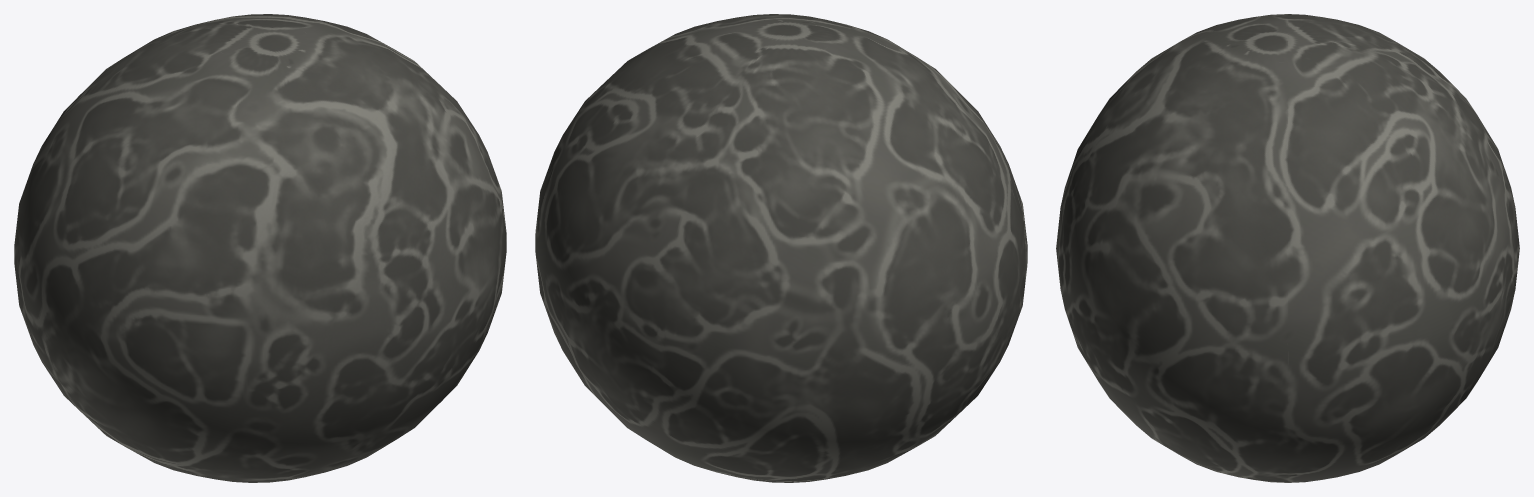
Rendered from Asteroid_1.fbx.
The picture shows the model from 3 angles, left to right: view 1: azimuth 30°, elevation 25°; view 2: azimuth 150°, elevation 25°; view 3: azimuth 270°, elevation 25°; orthographic projection.
Visible parts, largest first — view 1: Asteroid_1_Variant; view 2: Asteroid_1_Variant; view 3: Asteroid_1_Variant.
Part boxes in pixels (x1=…): Asteroid_1_Variant: x1=14, y1=14, x2=506, y2=482; Asteroid_1_Variant: x1=535, y1=14, x2=1027, y2=482; Asteroid_1_Variant: x1=1056, y1=14, x2=1519, y2=482.
Size of the model in its own units: 378 by 352 by 352.
